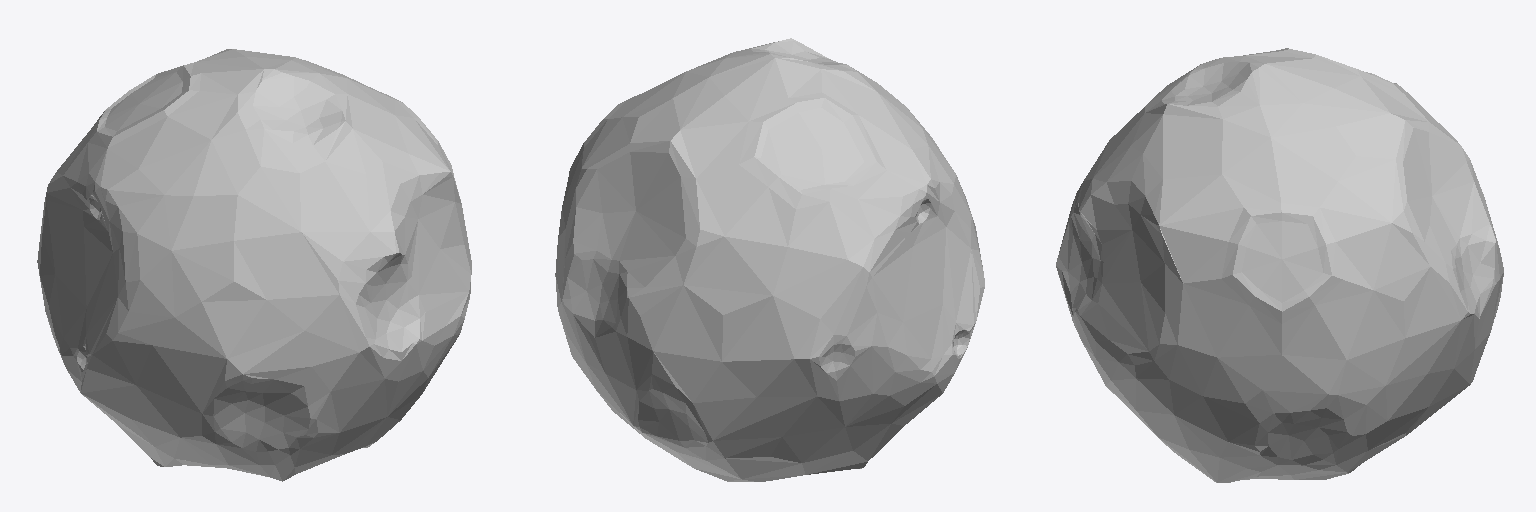
The model's file is planet.obj.
3 renders of one model, left to right at view 1: azimuth 30°, elevation 25°; view 2: azimuth 150°, elevation 25°; view 3: azimuth 270°, elevation 25°, orthographic.
Visible parts, largest first — view 1: big_Icosphere; view 2: big_Icosphere; view 3: big_Icosphere.
Part boxes in pixels (x1,y1,x2,y2): big_Icosphere: (37,49,471,481); big_Icosphere: (555,38,984,481); big_Icosphere: (1056,48,1503,482).
Size of the model in its own units: 7 by 6.92 by 7.31.